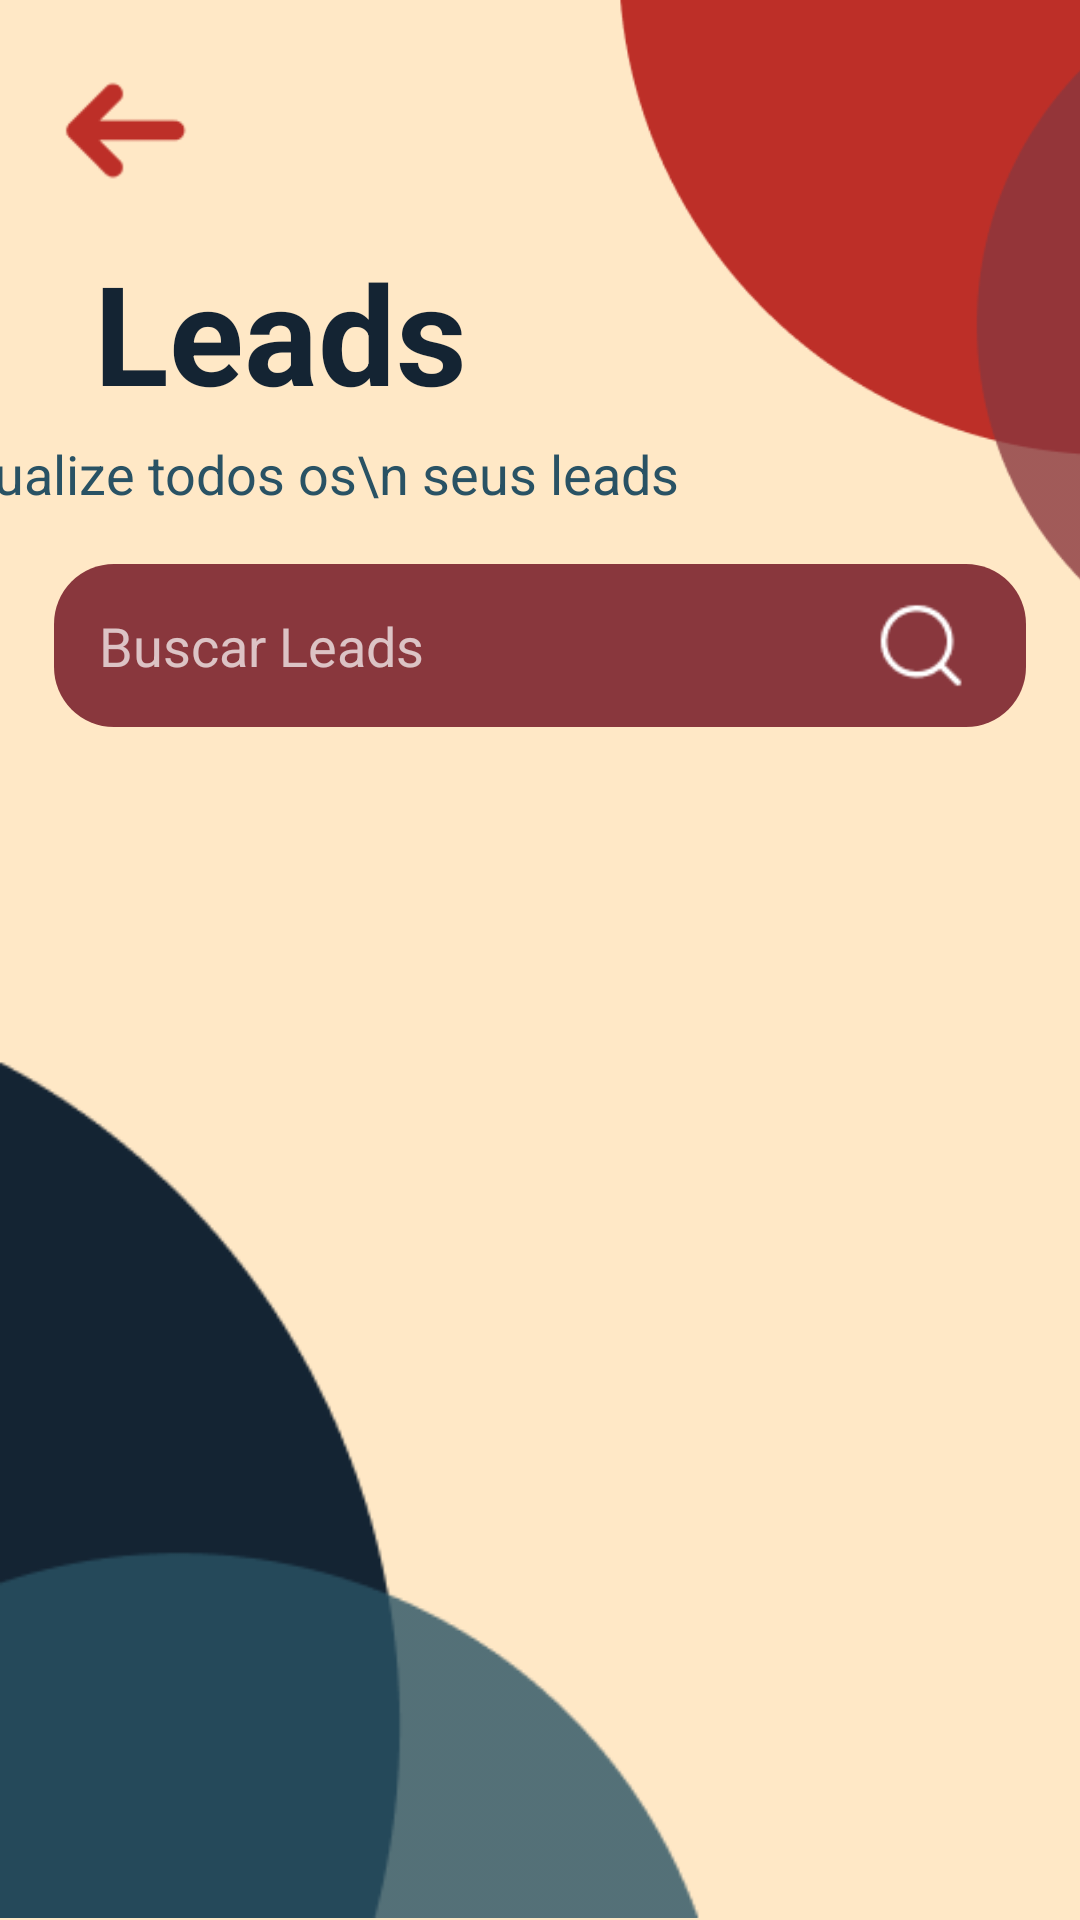

Locate icon controls on the screen. Image size 1080*1920, boxes as (x1, y1, x2, y2).
arrow: (66, 82, 186, 179)
lupa: (880, 605, 962, 686)
